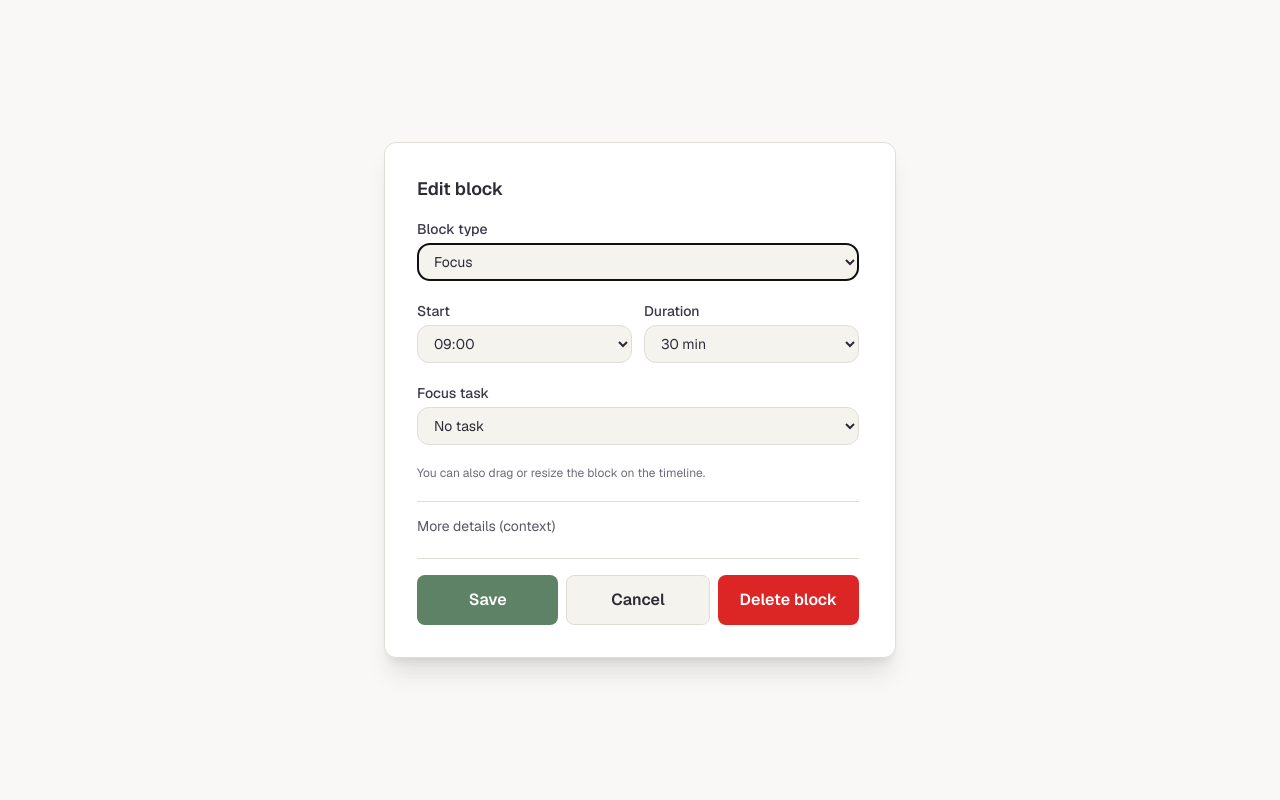
Scenario: ScheduleBlockEditPanel › keeps context fields collapsed until More is opened
This screenshot has width=1280, height=800.
Click the button with test id "schedule-edit-more-toggle" at (486, 526), box [417, 516, 555, 536]
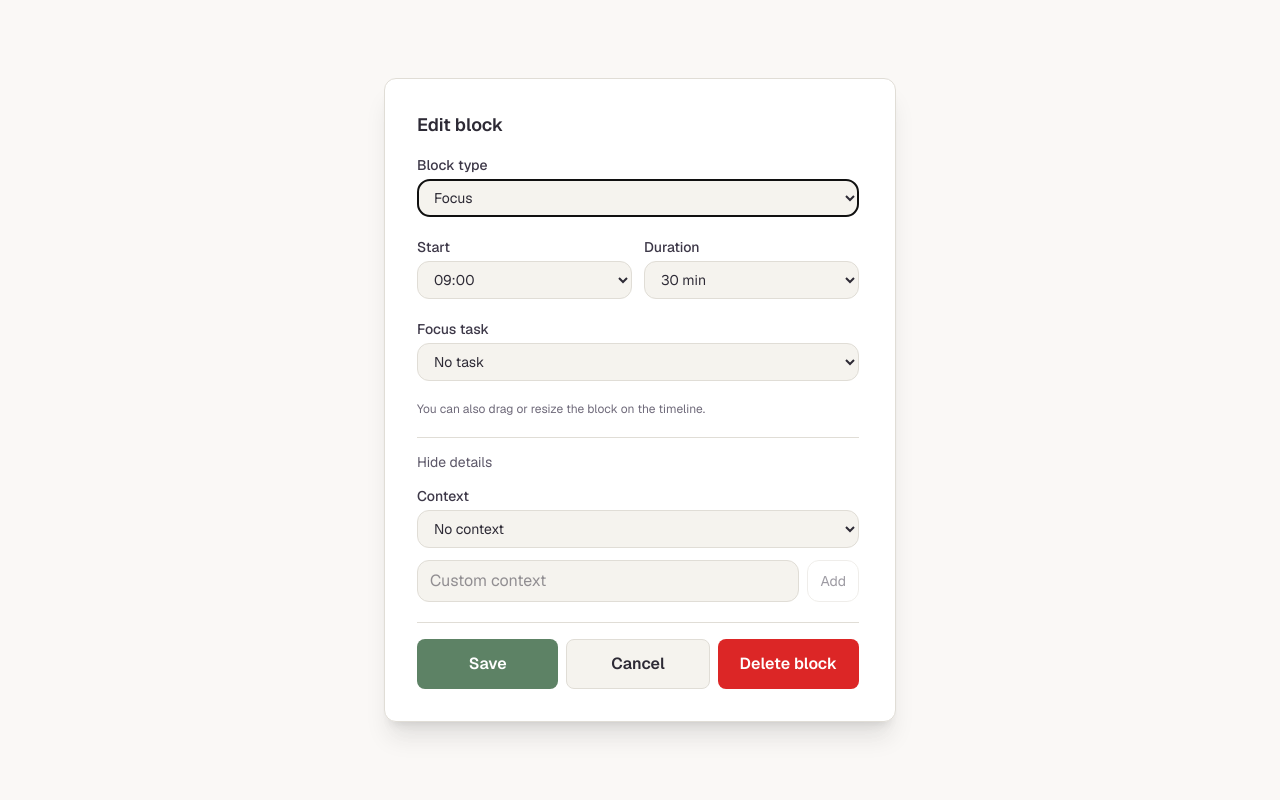
Check: the dropdown with test id "schedule-context" is shown, box [417, 510, 859, 548]
